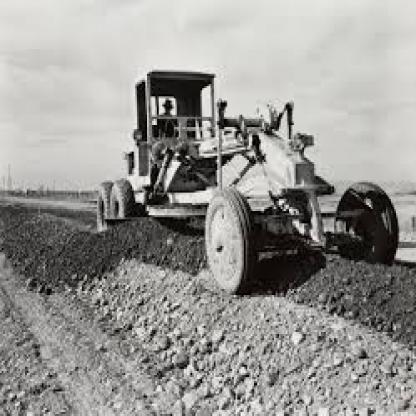bull_dozer/loader/grader: (82, 55, 401, 302)
